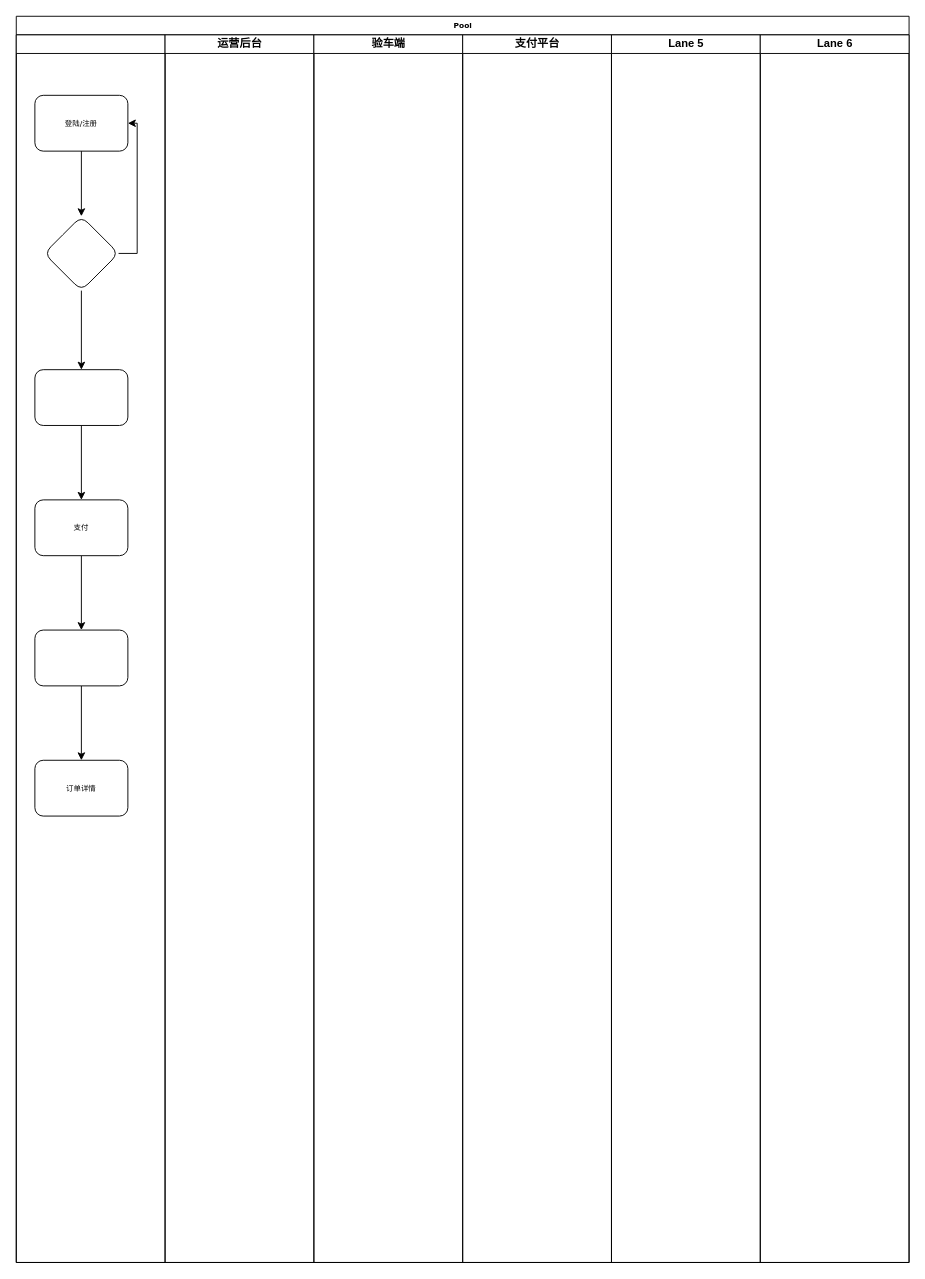
Image size: 925x1279. Some labels were removed from this diagram. The shapes that lost their labels are listed below. From the top down, each one's box as (x1, y1, x2, y2) in pixels, then its label:
(43, 215, 119, 291): 是否登陆
(34, 369, 128, 425): 下单
(34, 629, 128, 686): 订单列表
(15, 34, 165, 1262): siji client
